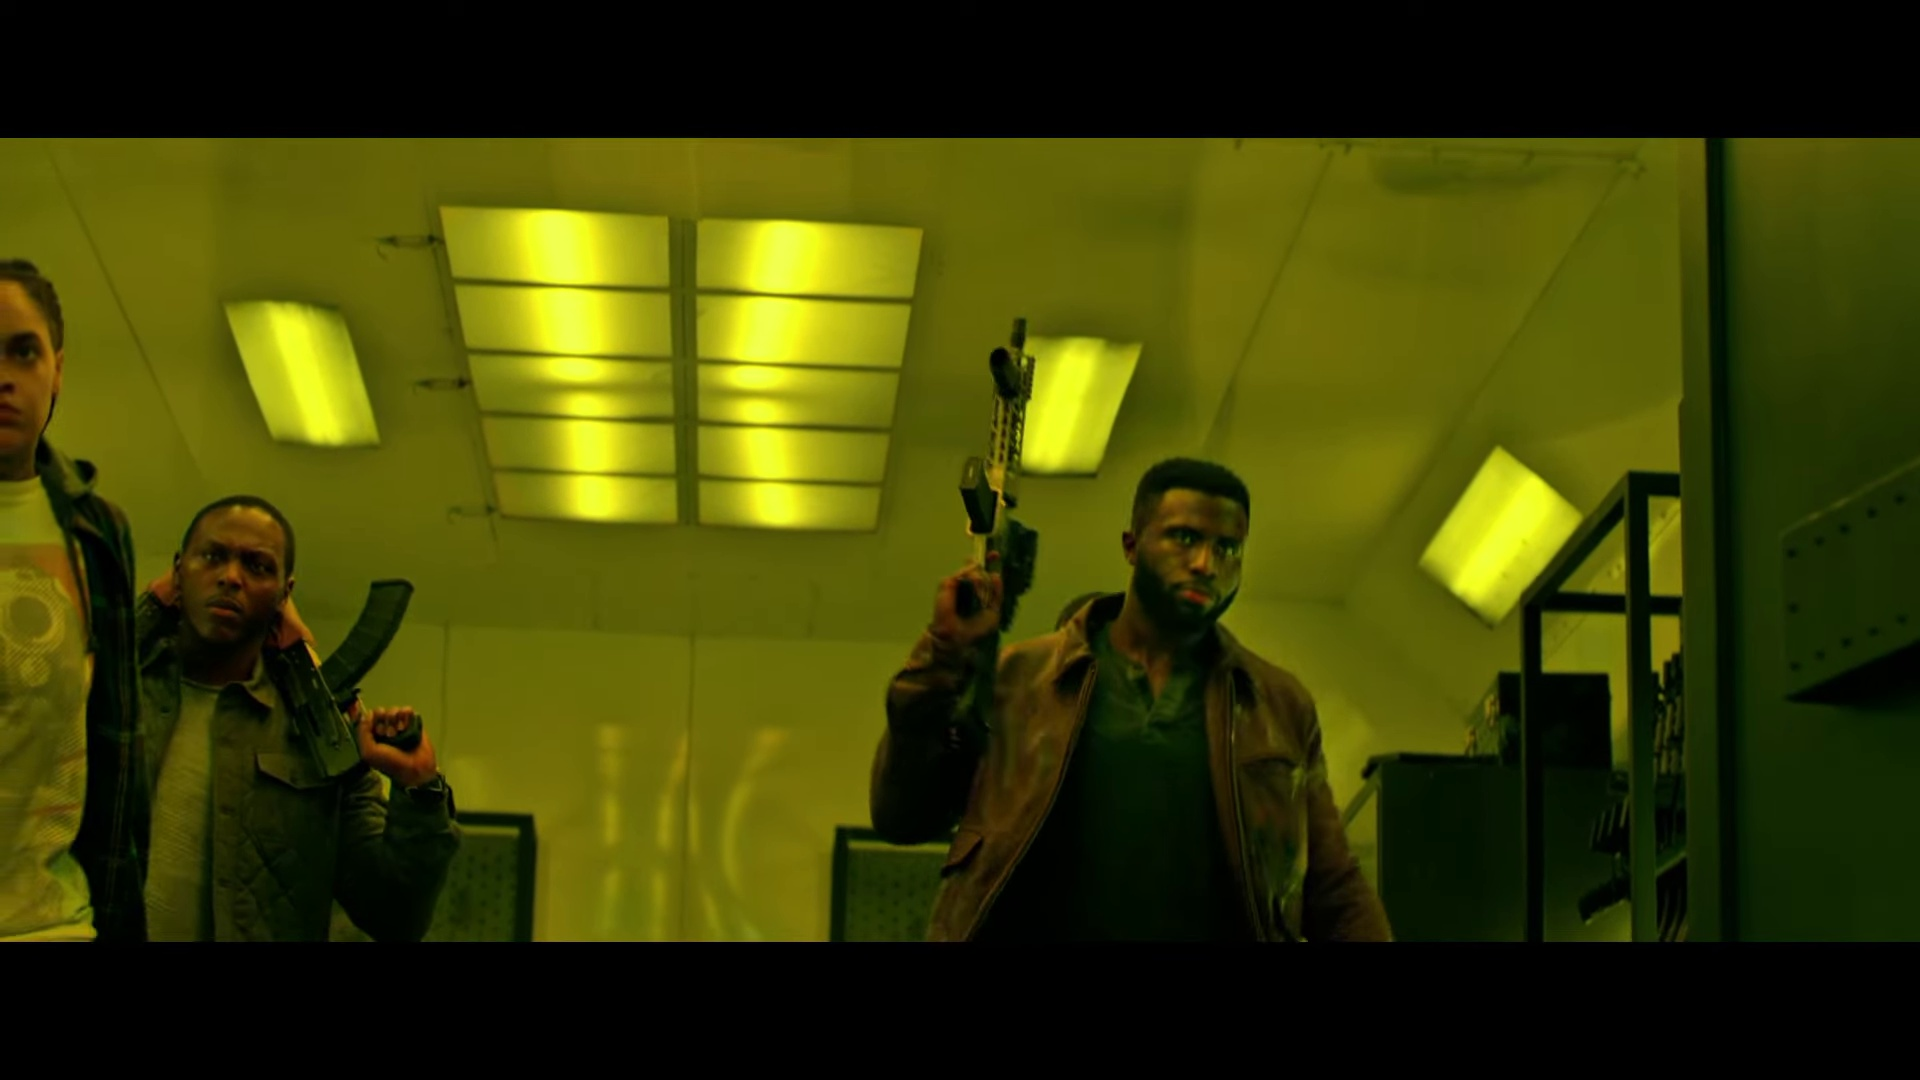gun: (945, 302, 1047, 754), (248, 549, 430, 787)
p_w_gun: (868, 311, 1398, 938), (91, 488, 463, 942)
p_wo_gun_not_carrying_normal_pose: (0, 256, 158, 947)
